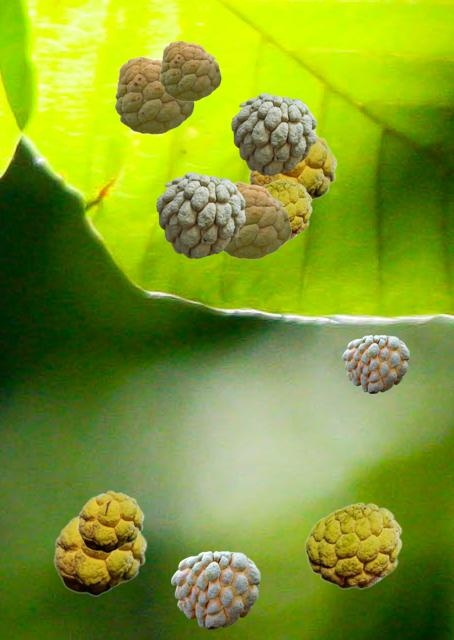atis: (304, 502, 401, 588), (156, 172, 244, 257), (53, 515, 146, 595), (231, 93, 315, 174), (171, 551, 259, 628), (114, 56, 193, 133), (248, 134, 336, 200), (223, 181, 290, 258), (77, 490, 143, 552), (342, 335, 408, 392), (159, 40, 220, 100), (263, 179, 311, 241)
